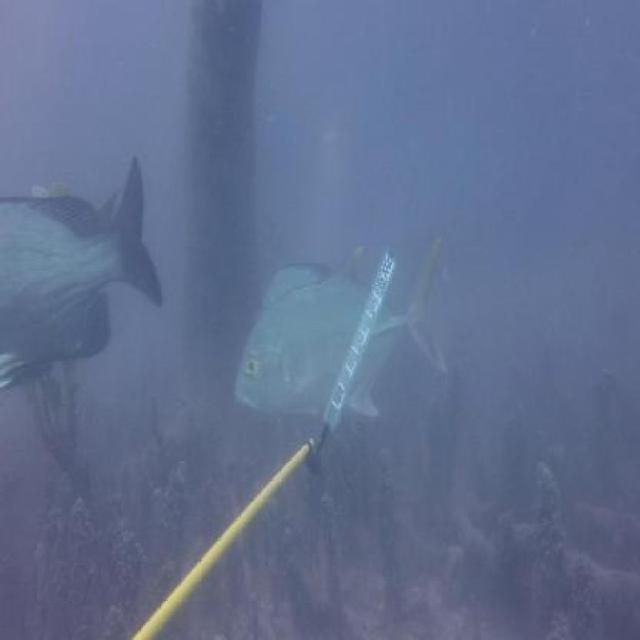Caranx: (232, 233, 453, 424)
acanthopagrus_palmaris: (0, 157, 166, 391), (259, 248, 343, 304)
